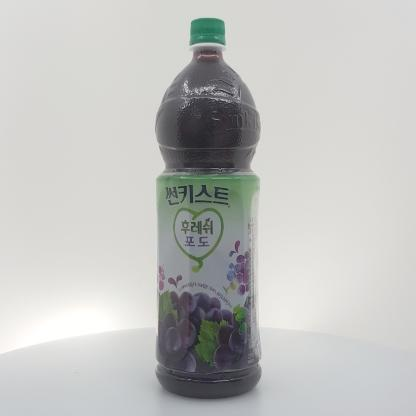-------50_1-5L: (155, 18, 261, 399)
